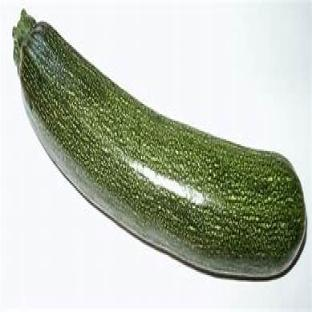Zucchini: (13, 11, 306, 278)
